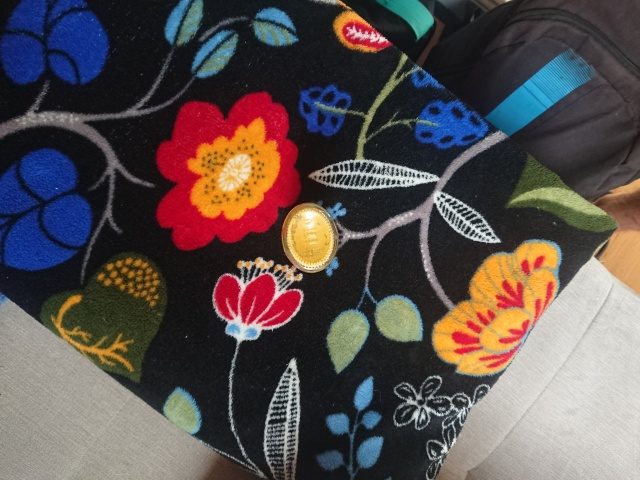Kotanyi Curry Spices Mix 70g: (278, 200, 341, 275)
